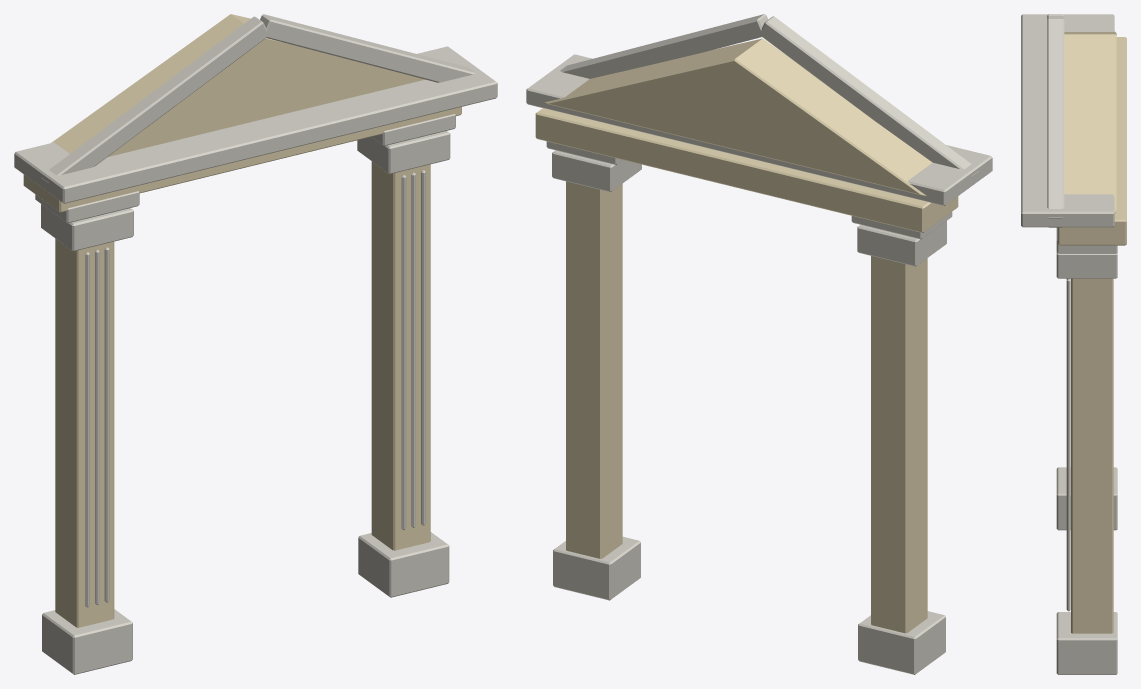
File: b12_classical_entry_pediment.glb
3 renders of one model, left to right at view 1: azimuth 30°, elevation 25°; view 2: azimuth 150°, elevation 25°; view 3: azimuth 270°, elevation 25°, orthographic. The views are drawn at different scales.
Parts seen in each view (by area): view 1: b12_classical_entry_pediment; view 2: b12_classical_entry_pediment; view 3: b12_classical_entry_pediment.
Boxes of the visible parts, <box> form: b12_classical_entry_pediment: <box>14,14,497,674</box>; b12_classical_entry_pediment: <box>526,14,992,674</box>; b12_classical_entry_pediment: <box>1021,14,1126,674</box>.
Size of the model in its own units: 2.31 by 3.11 by 0.52.
